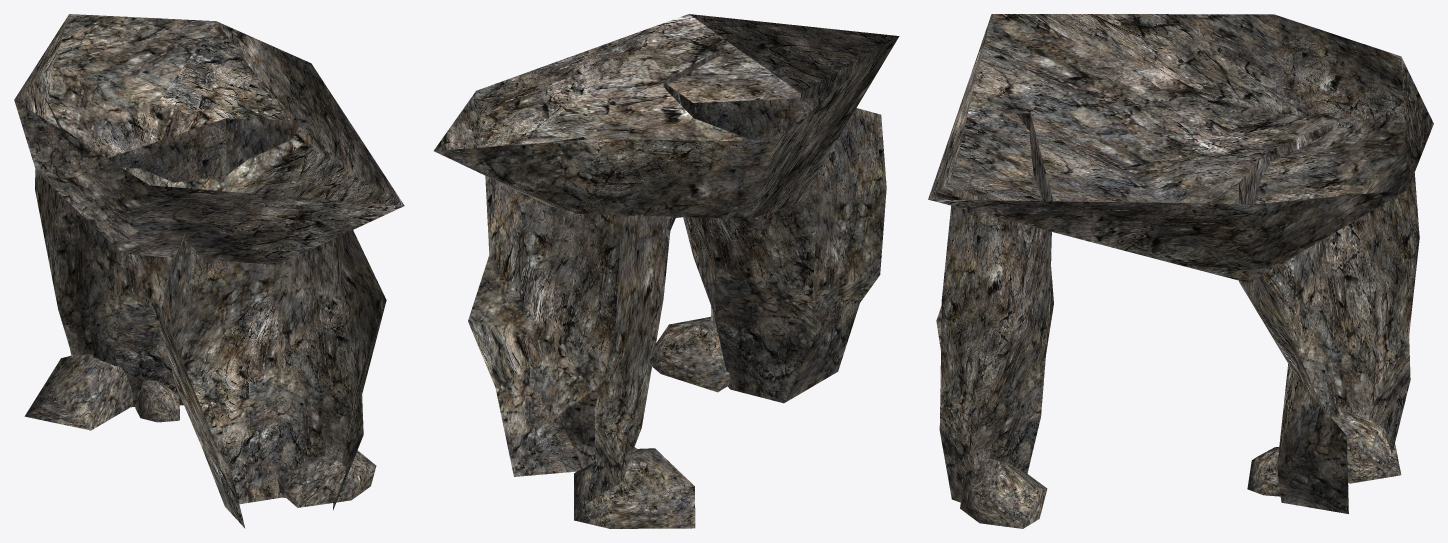
Rendered from pir_m_prp_cav_cap.fbx.
3 views of the same model, side by side, from view 1: azimuth 30°, elevation 25°; view 2: azimuth 150°, elevation 25°; view 3: azimuth 270°, elevation 25° (orthographic). The views are drawn at different scales.
Parts seen in each view (by area): view 1: lod_high; view 2: lod_high; view 3: lod_high.
Boxes of the visible parts, x1,y1,x2,y2 form: lod_high: [14, 14, 404, 528]; lod_high: [434, 14, 899, 528]; lod_high: [928, 14, 1433, 528].
Size of the model in its own units: 8111 by 9912 by 10971.
Materials: 1 (1 with a texture image).
